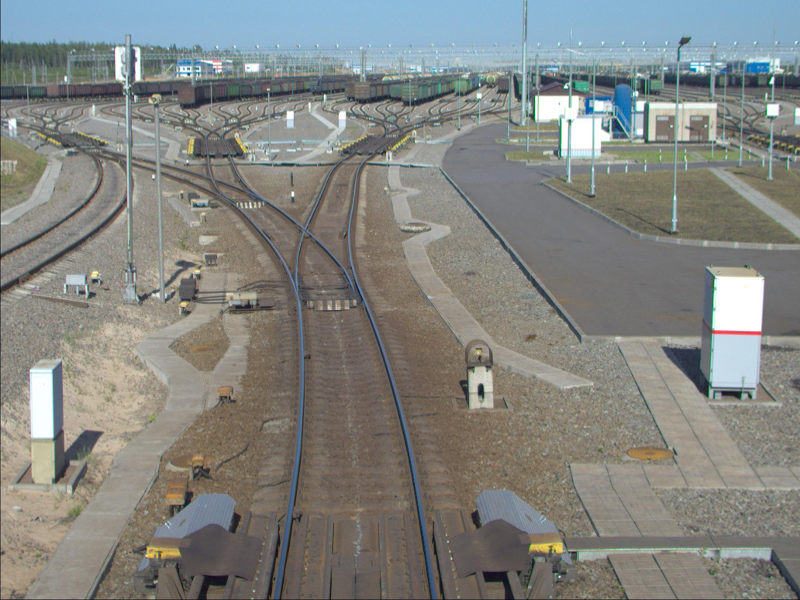right: (286, 217, 364, 296)
